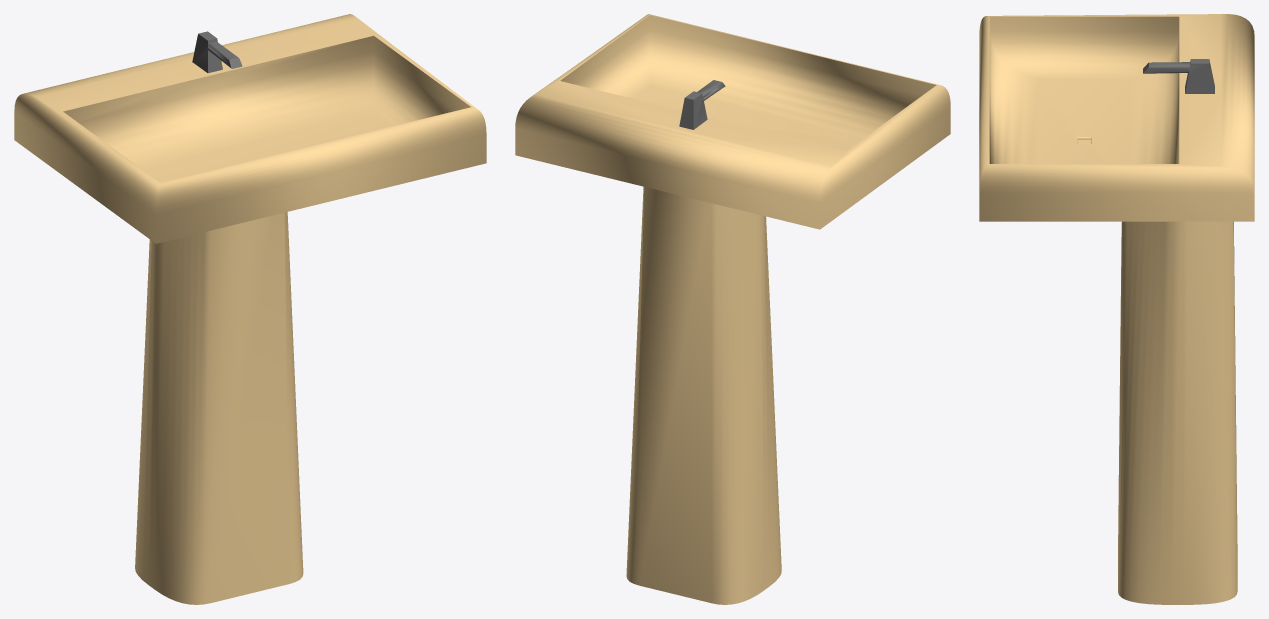
File: Sink.FBX
3 renders of one model, left to right at view 1: azimuth 30°, elevation 25°; view 2: azimuth 150°, elevation 25°; view 3: azimuth 270°, elevation 25°, orthographic. The views are drawn at different scales.
Visible parts, largest first — view 1: BathroomSink; view 2: BathroomSink; view 3: BathroomSink.
Boxes of the visible parts, x1=… form: BathroomSink: x1=14, y1=14, x2=486, y2=604; BathroomSink: x1=515, y1=14, x2=950, y2=604; BathroomSink: x1=979, y1=14, x2=1254, y2=604.
Bounding box in the file's own units: 84.42 × 129 × 62.73.
